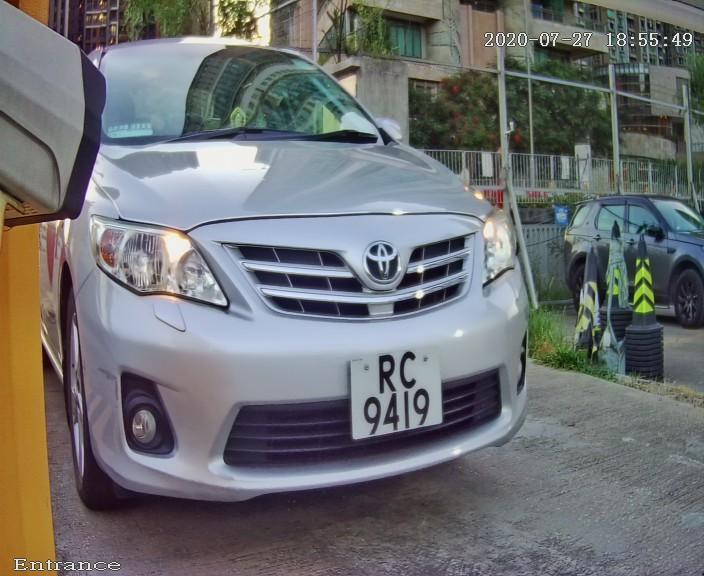privatecar: (38, 21, 588, 530)
